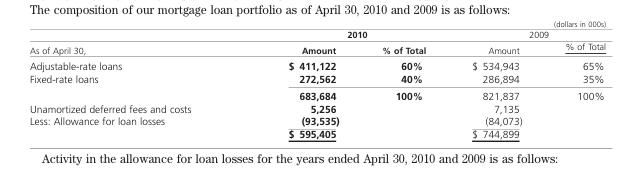table: (29, 29, 605, 139)
table column: (29, 29, 239, 139), (239, 29, 359, 139), (448, 29, 543, 139), (359, 29, 448, 139), (543, 29, 605, 139)
table column header: (29, 29, 605, 57)
table row: (29, 40, 605, 57), (29, 57, 605, 72), (29, 86, 605, 101), (29, 72, 605, 86), (29, 101, 605, 114), (29, 114, 605, 127), (29, 127, 605, 139), (29, 29, 605, 40)
table spanning cell: (29, 29, 239, 57), (239, 29, 448, 40), (448, 29, 605, 40)
